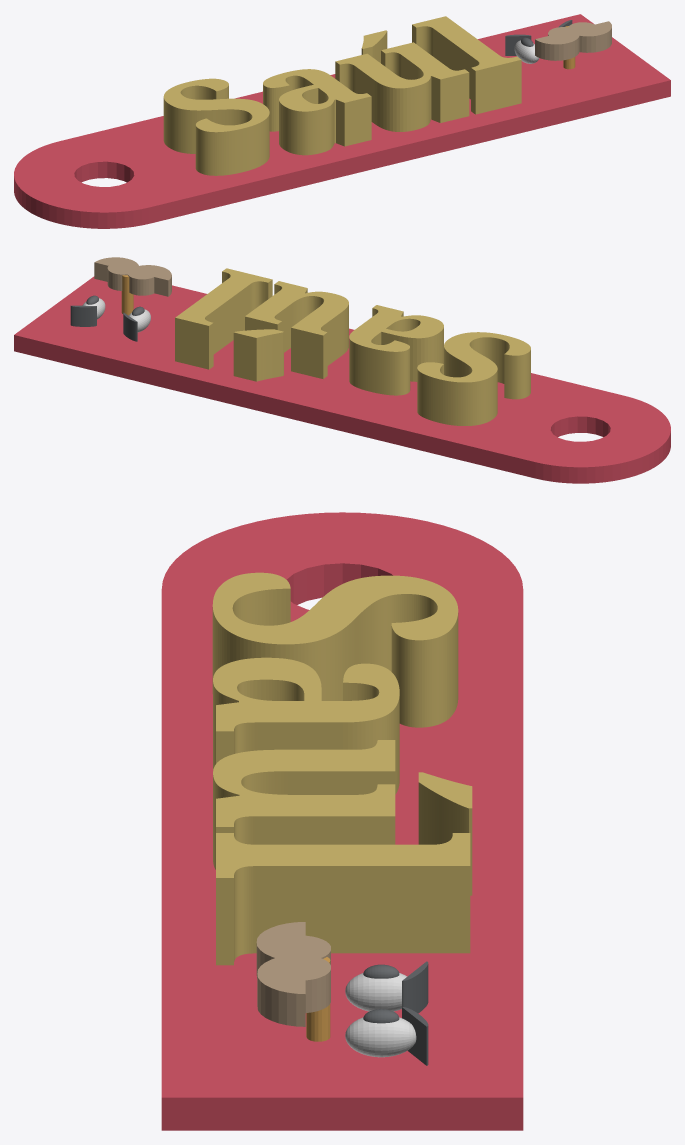
Rendered from asset.glb.
The picture shows the model from 3 angles, top to bottom: view 1: azimuth 30°, elevation 25°; view 2: azimuth 150°, elevation 25°; view 3: azimuth 270°, elevation 25°; orthographic projection. The views are drawn at different scales.
Parts seen in each view (by area): view 1: Mesh_Mesh_head_geo.001_lambert2SG.001; view 2: Mesh_Mesh_head_geo.001_lambert2SG.001; view 3: Mesh_Mesh_head_geo.001_lambert2SG.001.
Part boxes in pixels (x1,y1,x2,y2): Mesh_Mesh_head_geo.001_lambert2SG.001: (14, 14, 670, 228); Mesh_Mesh_head_geo.001_lambert2SG.001: (14, 257, 670, 483); Mesh_Mesh_head_geo.001_lambert2SG.001: (161, 512, 523, 1130).
Bounding box in the file's own units: 115 × 11 × 30.
